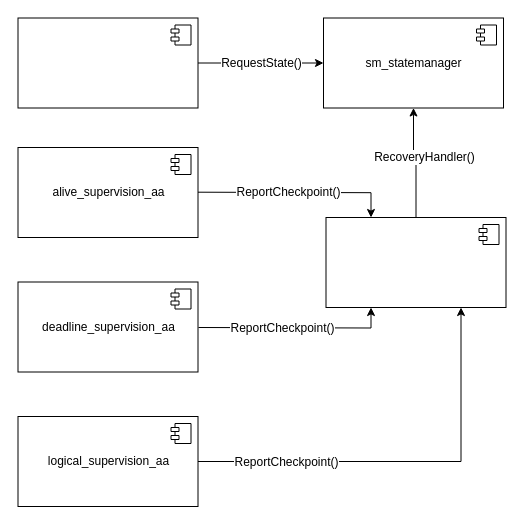
The diagram is 523 pixels wide and 524 high, and some of its shapes have lost their labels. Each missing label, with the centre of its shape:
"phm_healthmanager" goes at [415,262].
"sm_control_aa" goes at [107,62].
